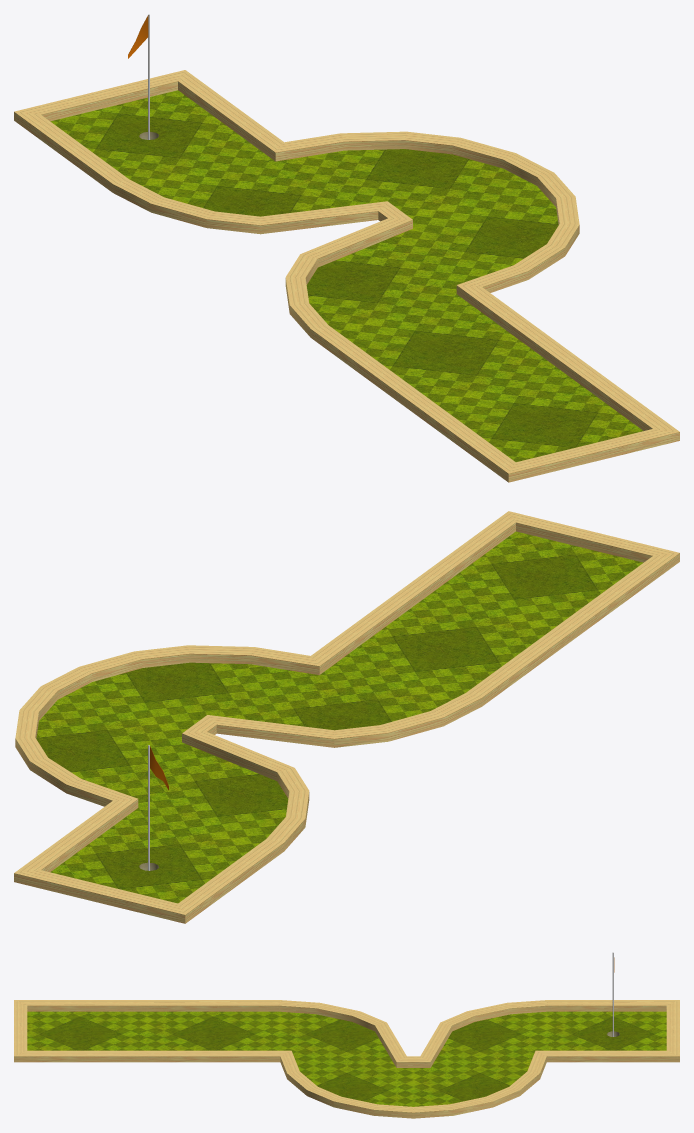
The model's file is course1_hole4.fbx.
3 renders of one model, top to bottom at view 1: azimuth 30°, elevation 25°; view 2: azimuth 150°, elevation 25°; view 3: azimuth 270°, elevation 25°, orthographic. The views are drawn at different scales.
Visible parts, largest first — view 1: course1_hole4_ground, course1_hole4_walls; view 2: course1_hole4_ground, course1_hole4_walls; view 3: course1_hole4_ground, course1_hole4_walls.
Boxes of the visible parts, box(x1,y1,x2,y2) form: course1_hole4_ground: box(50, 90, 643, 461); course1_hole4_walls: box(14, 70, 679, 482); course1_hole4_ground: box(36, 531, 643, 903); course1_hole4_walls: box(14, 511, 679, 923); course1_hole4_ground: box(27, 1011, 666, 1106); course1_hole4_walls: box(14, 1000, 679, 1118).
Bounding box in the file's own units: 6 × 2.25 × 15.
